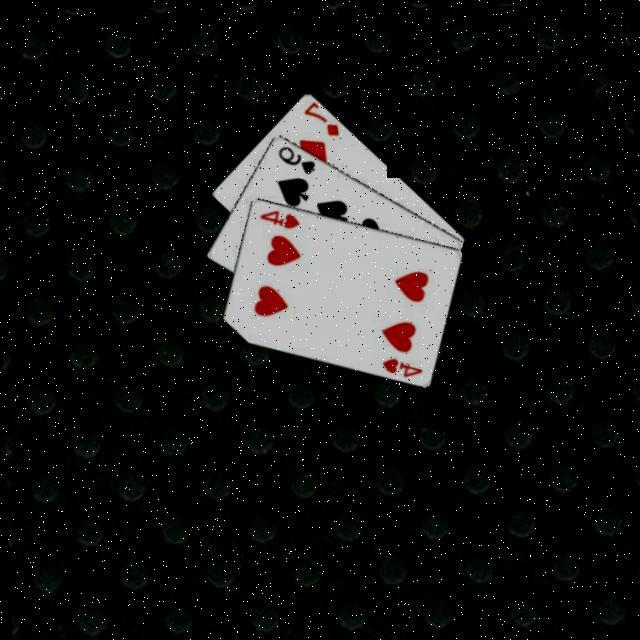4H: (378, 354, 426, 381), (256, 206, 302, 234)
7D: (301, 99, 342, 140)
9S: (276, 143, 318, 178)
